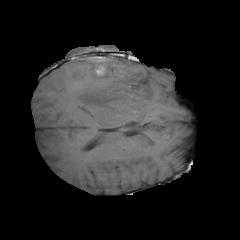glioma: (54, 61, 144, 122)
